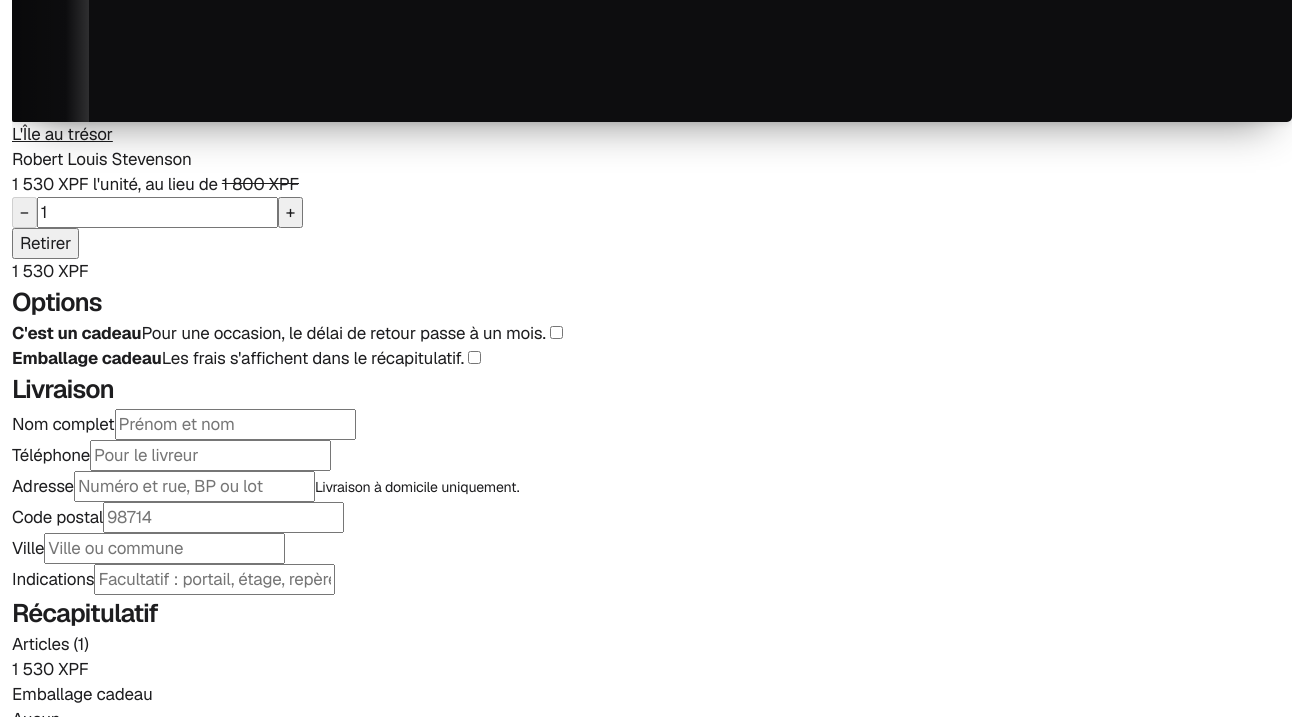
Test: page Panier › recalcule le devis quand on choisit l emballage cadeau et une occasion
This screenshot has width=1292, height=717.
(page scrolled)
Click the checkbox labelled "Emballage cadeau".
click(474, 358)  # box [468,351,481,364]
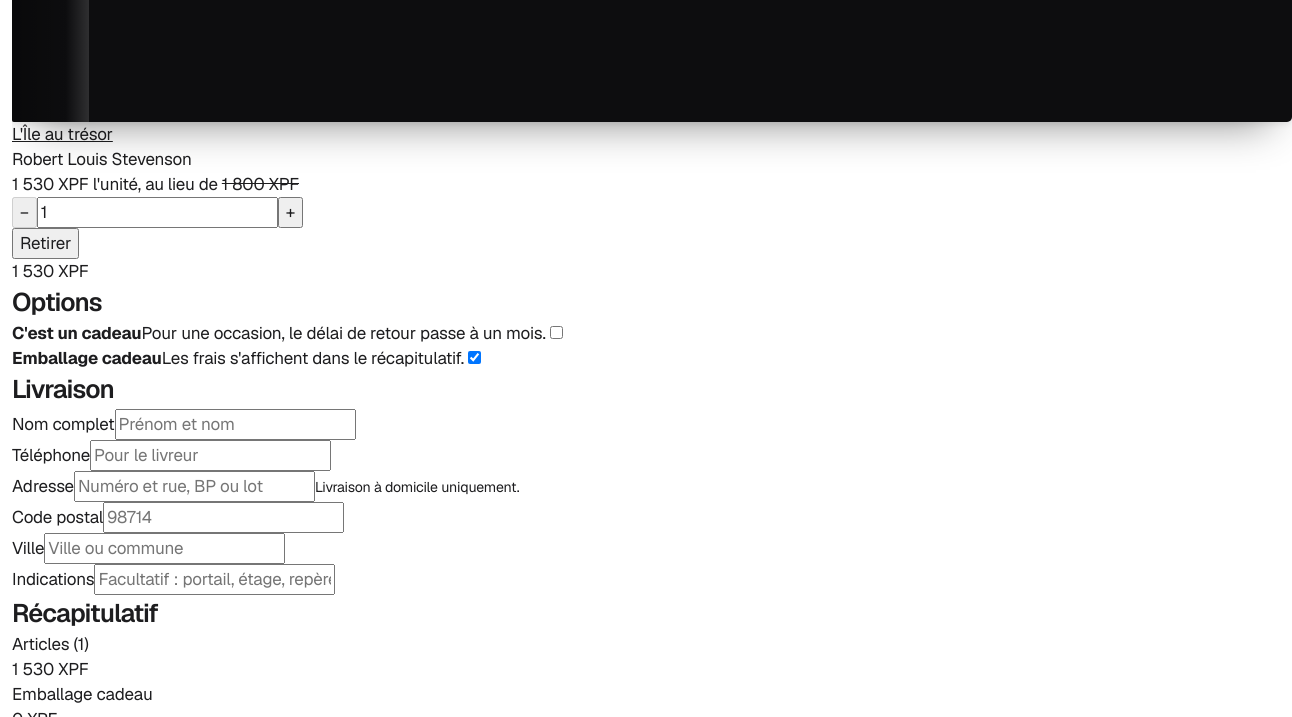
Click the checkbox labelled "C'est un cadeau".
click(556, 333)  # box [550,326,563,339]
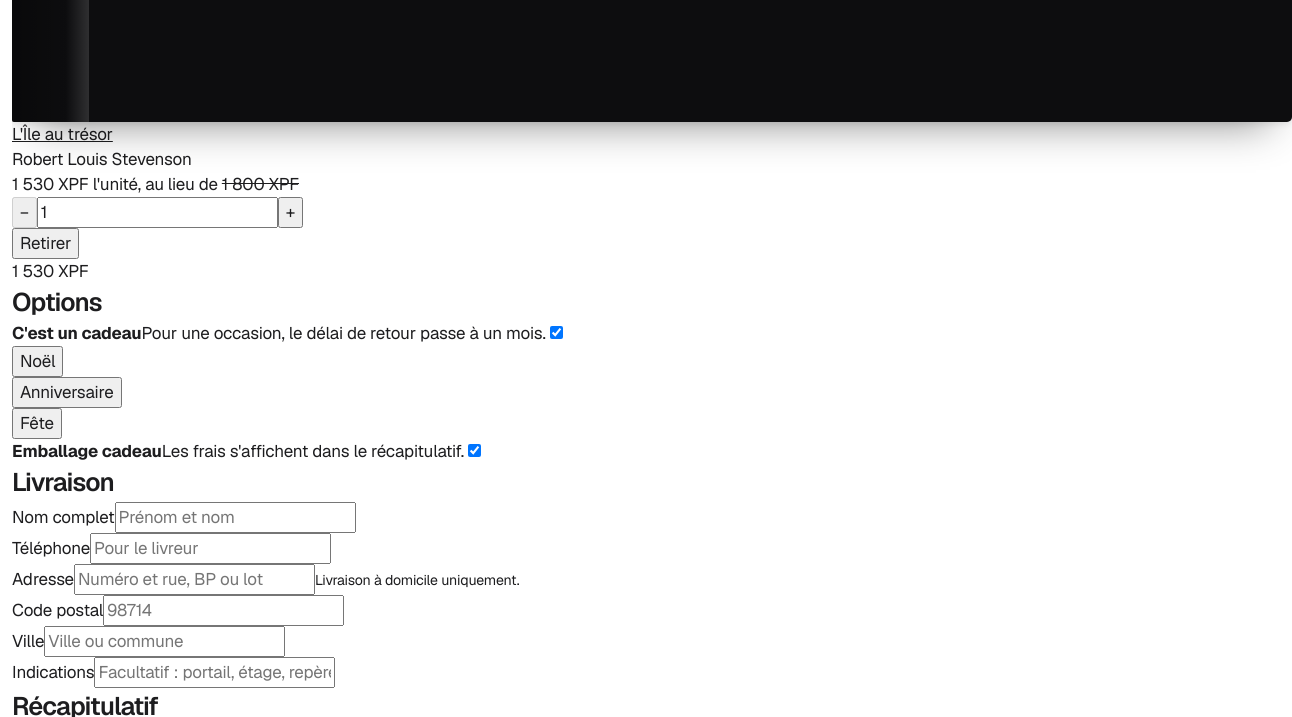
Click the button "Noël".
click(38, 362)  # box [12,346,63,377]
(page scrolled)
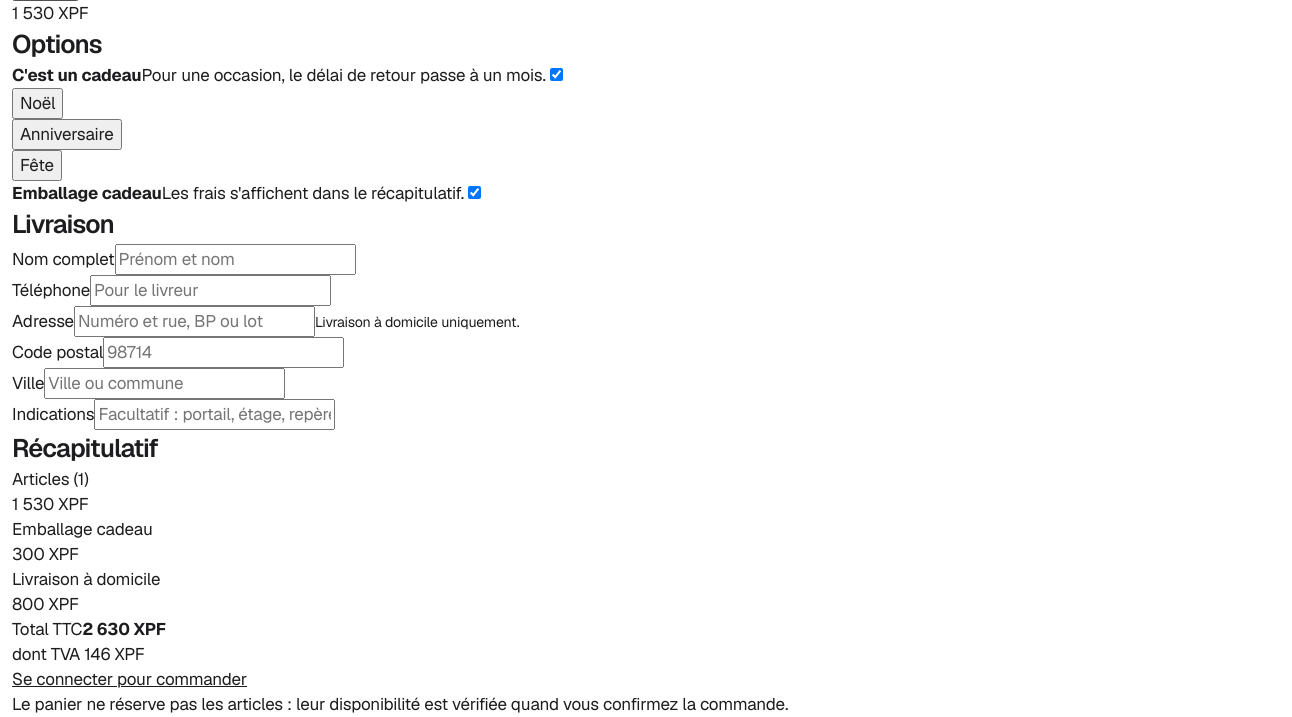
Result: the text "2 630 XPF" is shown at [82,618,166,640]
Result: the text "300 XPF" is shown at [12,543,79,565]
